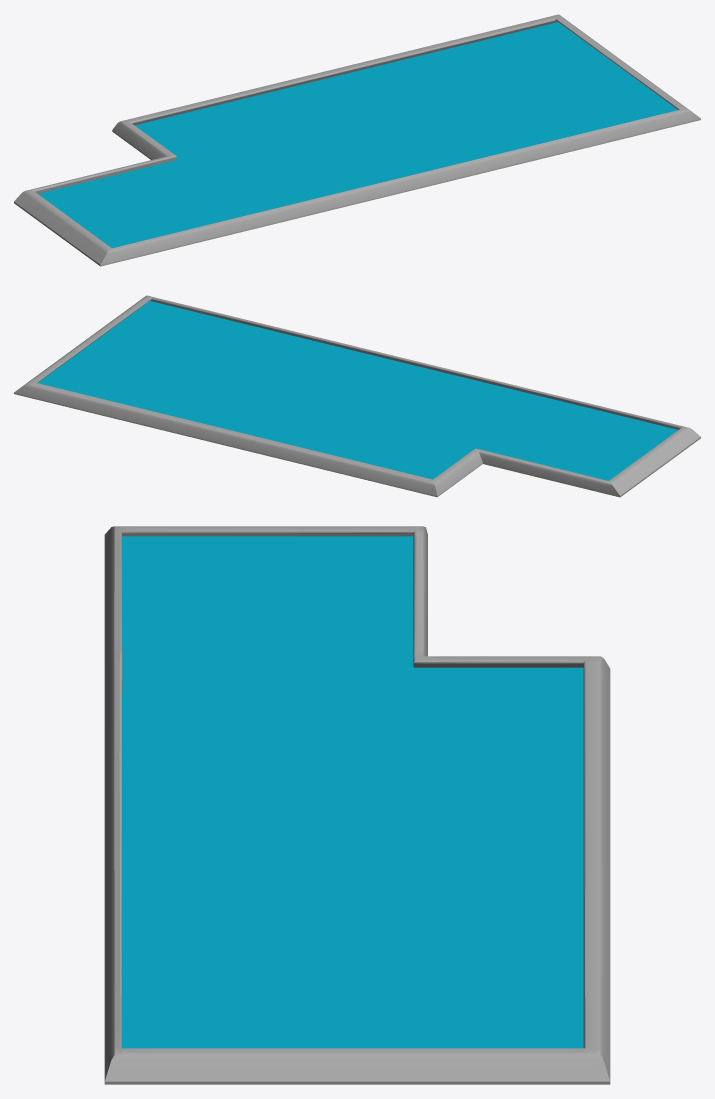
The model's file is reactor_chamber_pool.fbx.
3 renders of one model, top to bottom at view 1: azimuth 30°, elevation 25°; view 2: azimuth 150°, elevation 25°; view 3: azimuth 270°, elevation 25°, orthographic. The views are drawn at different scales.
Visible parts, largest first — view 1: reactor_chamber_pool; view 2: reactor_chamber_pool; view 3: reactor_chamber_pool.
Boxes of the visible parts, <box> form: reactor_chamber_pool: <box>14,14,700,266</box>; reactor_chamber_pool: <box>14,295,700,497</box>; reactor_chamber_pool: <box>104,526,610,1084</box>.
Bounding box in the file's own units: 50.53 × 0.9242 × 19.72.
